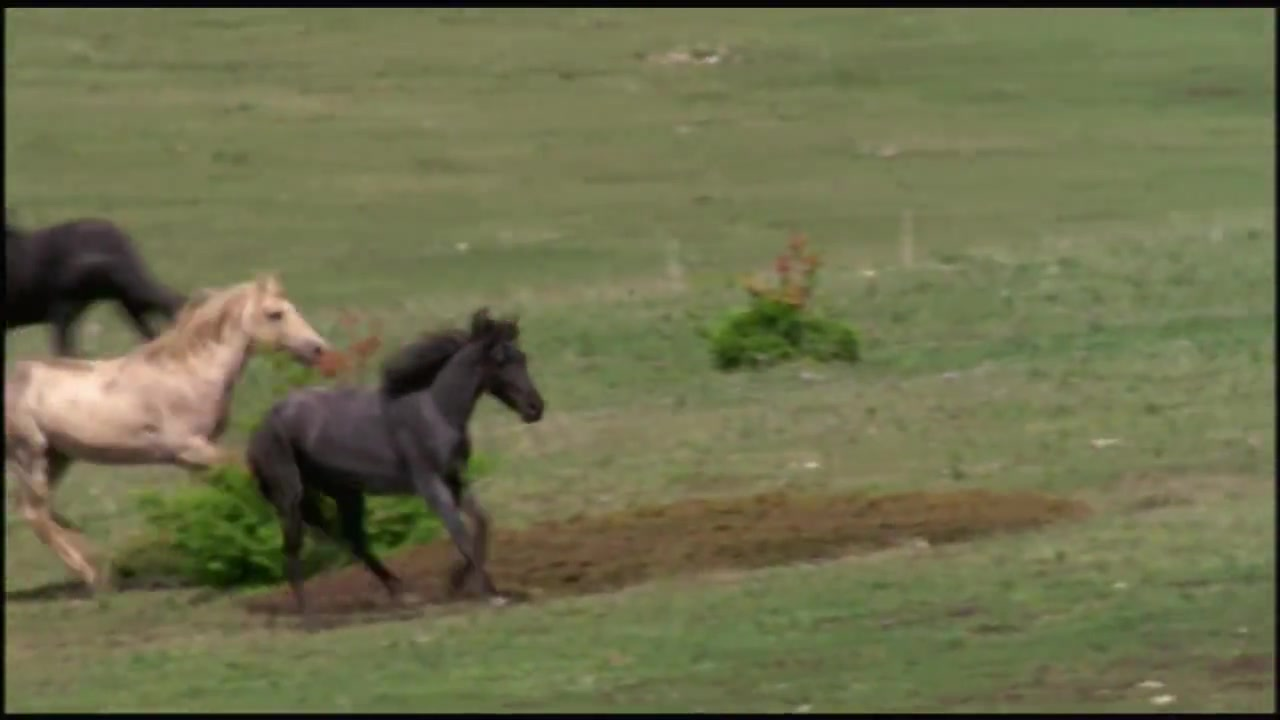horse: (241, 306, 549, 625)
